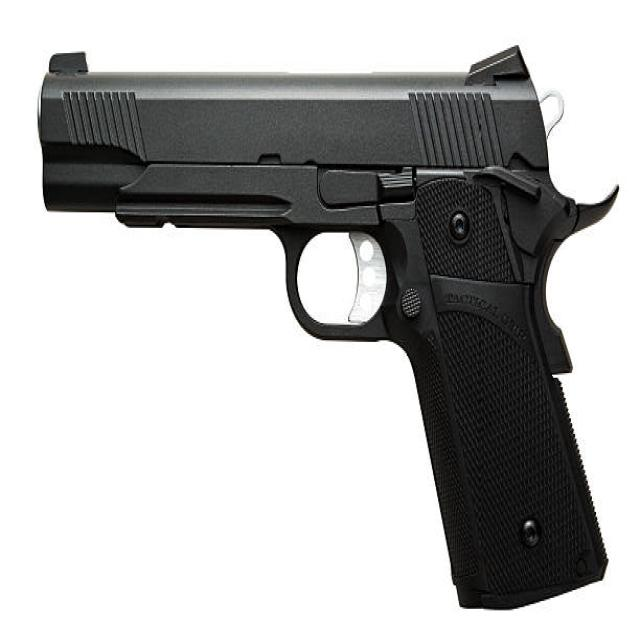pistol: (32, 39, 620, 618)
